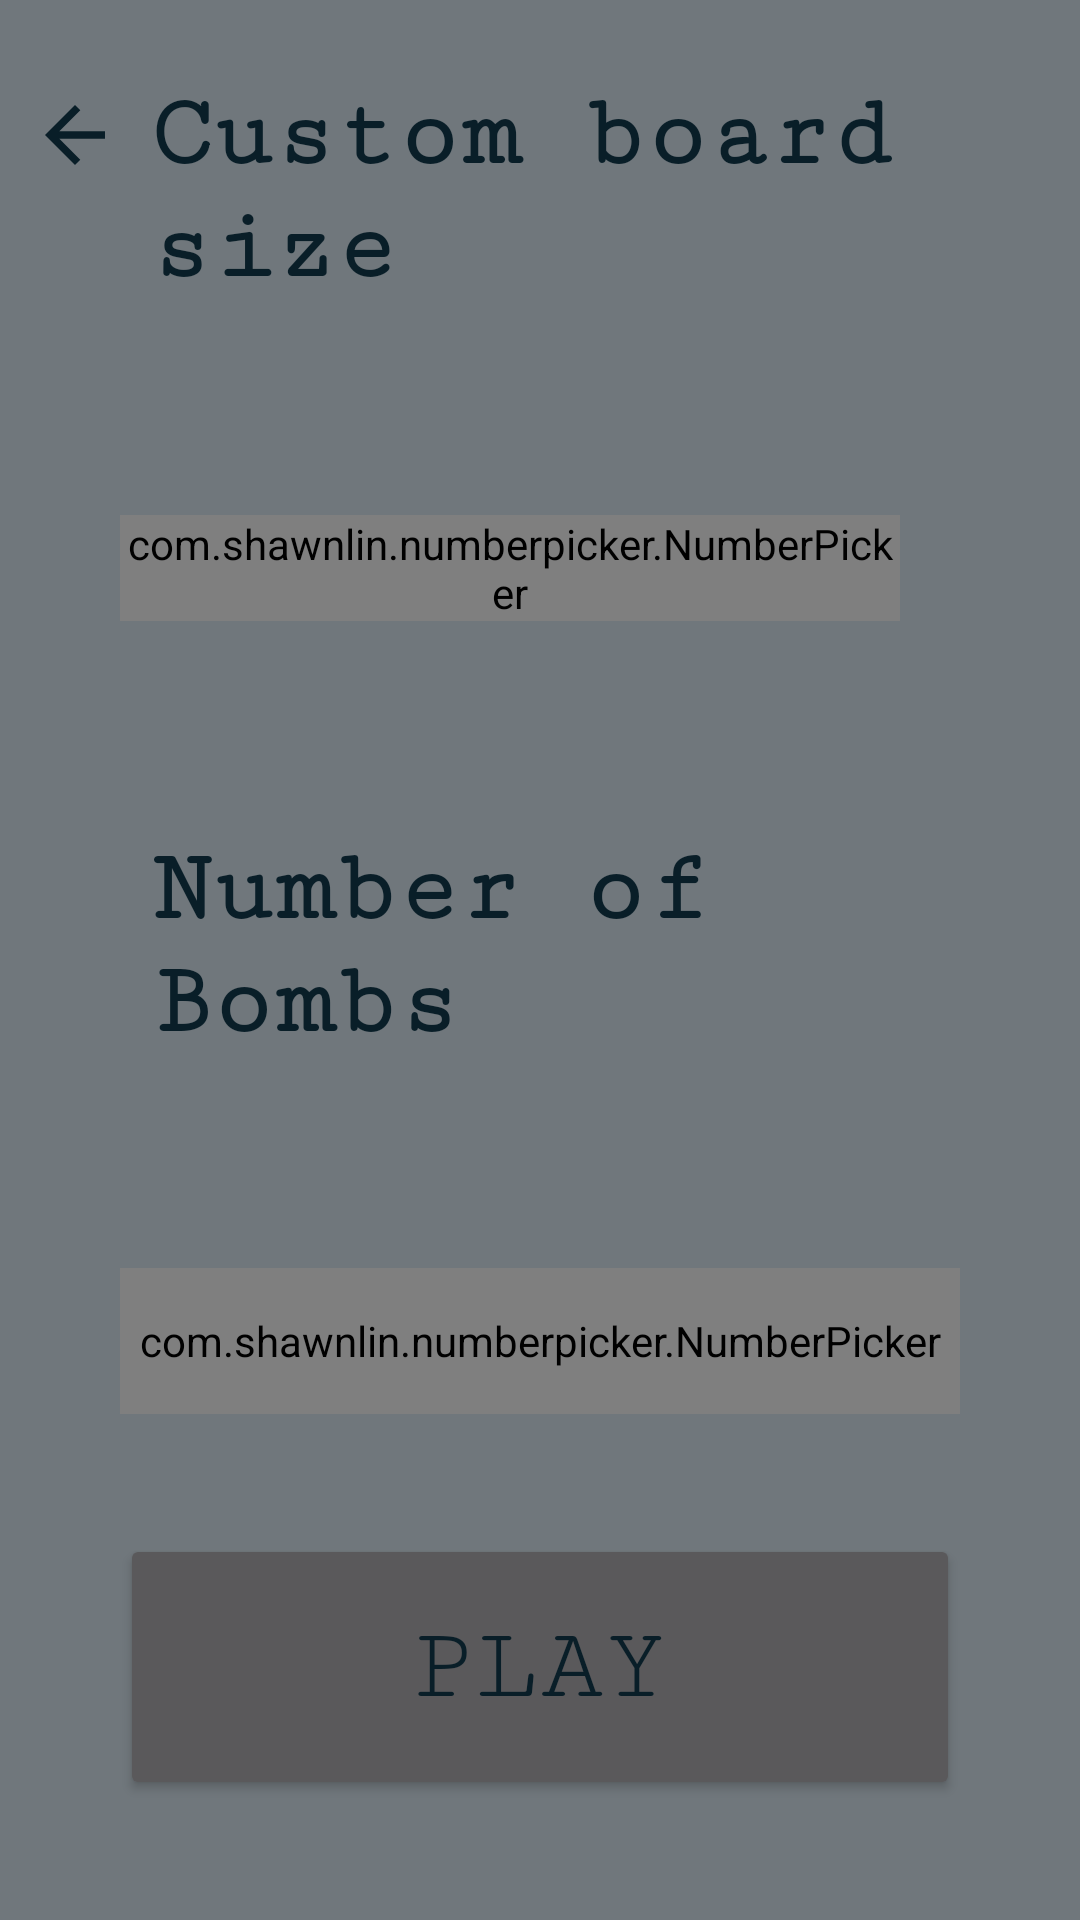

Locate icon controls on the screen. Image size 1080 × 1920, boxes as (x1, y1, x2, y2).
arrow back: (45, 105, 105, 165)
